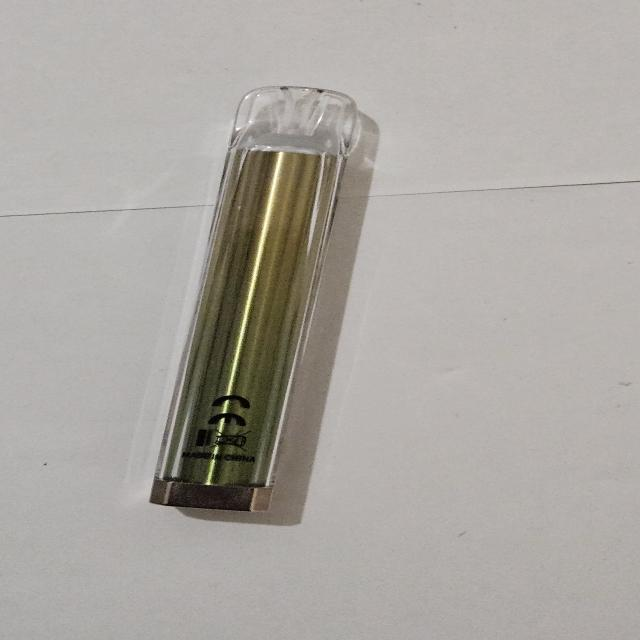Hazard: (146, 84, 380, 513)
